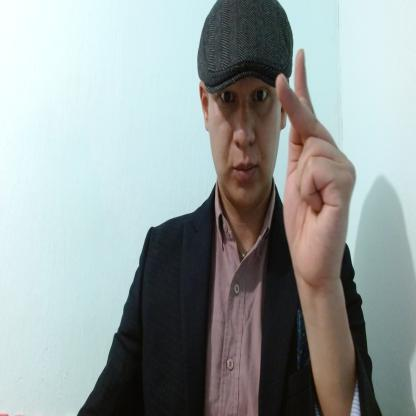P: (275, 44, 358, 290)
